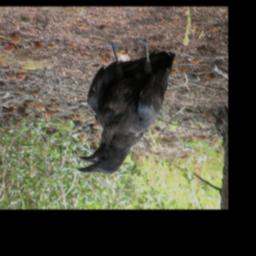Crow: (76, 36, 177, 175)
